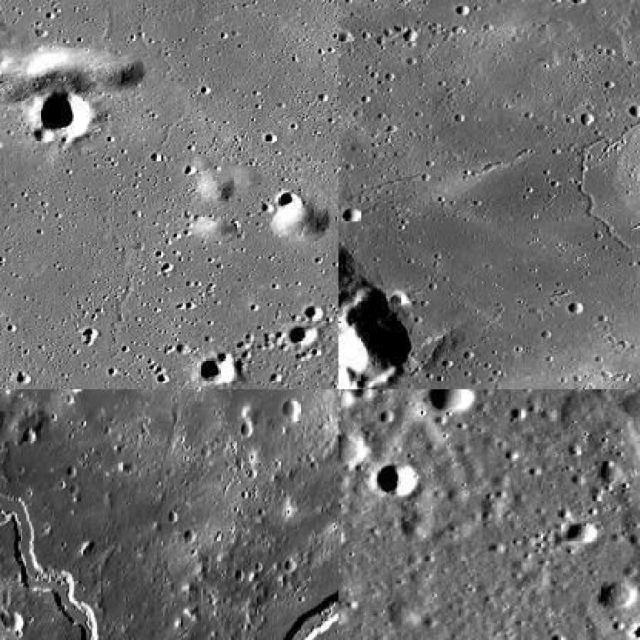rille: (0, 390, 337, 638), (80, 0, 300, 375), (576, 0, 638, 388)
